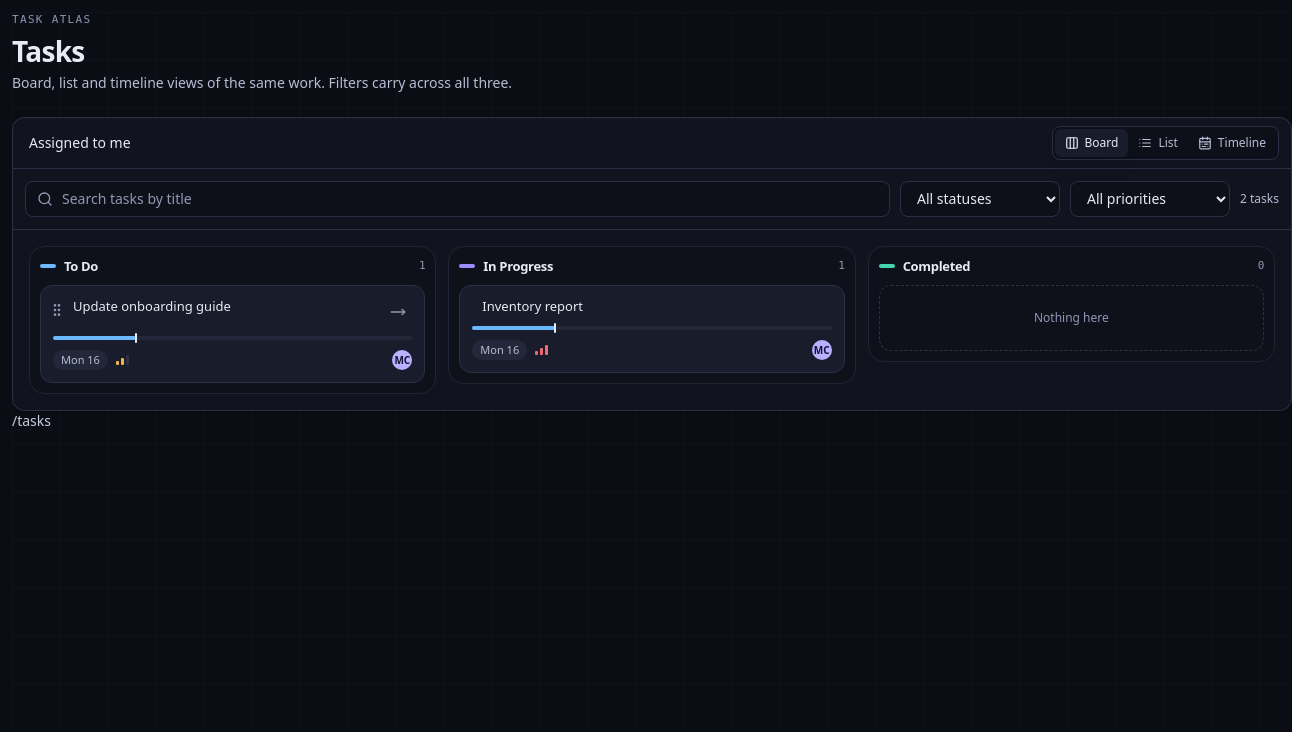
Test case: Task Atlas › puts the card back when the server refuses the move
The width and height of the screenshot is (1292, 732).
Click the button named "Move “Update onboarding guide”": (398, 312) x1=384 y1=298 x2=412 y2=326
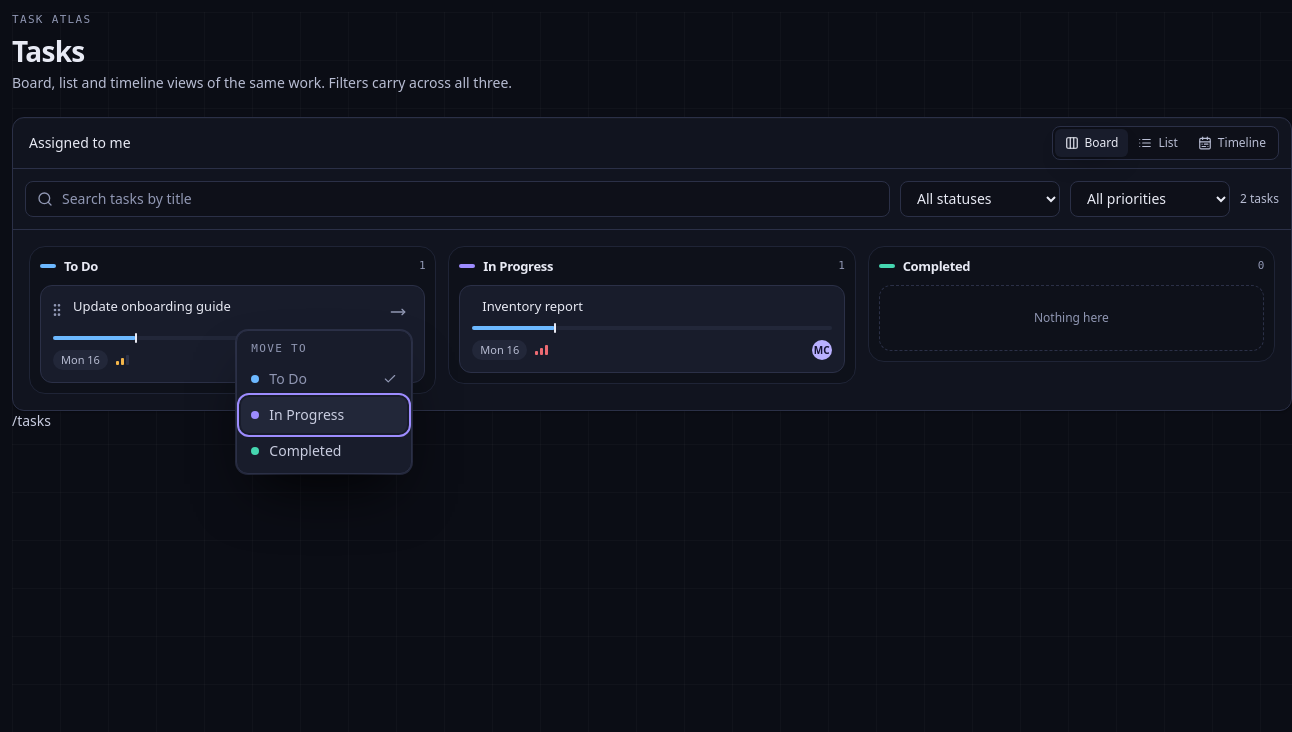
Click the menu item "Completed": (324, 451) x1=241 y1=433 x2=407 y2=469
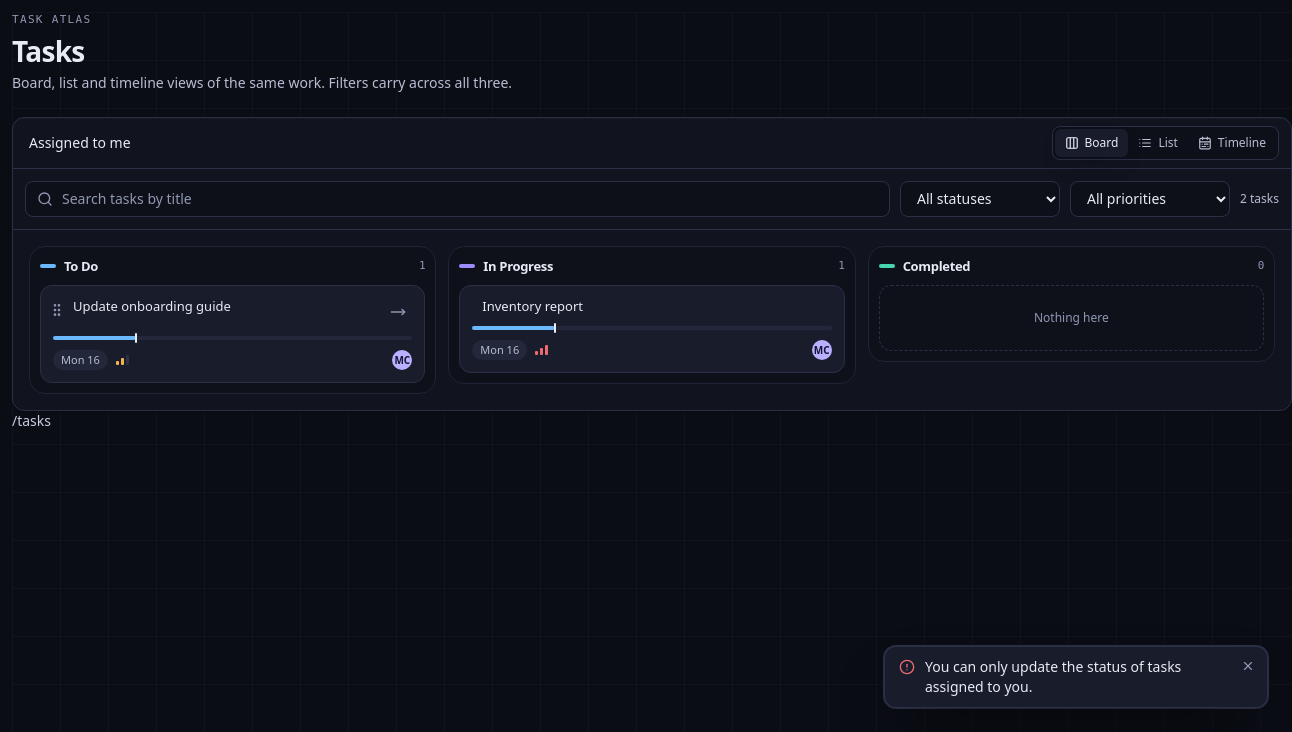
Expected: the link "Update onboarding guide" is shown, x1=73 y1=297 x2=231 y2=315
Now the text "You can only update the status of tasks assigned to you." is shown, box x1=925 y1=657 x2=1181 y2=696
